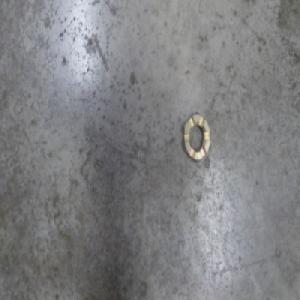Nut: (182, 109, 210, 164)
